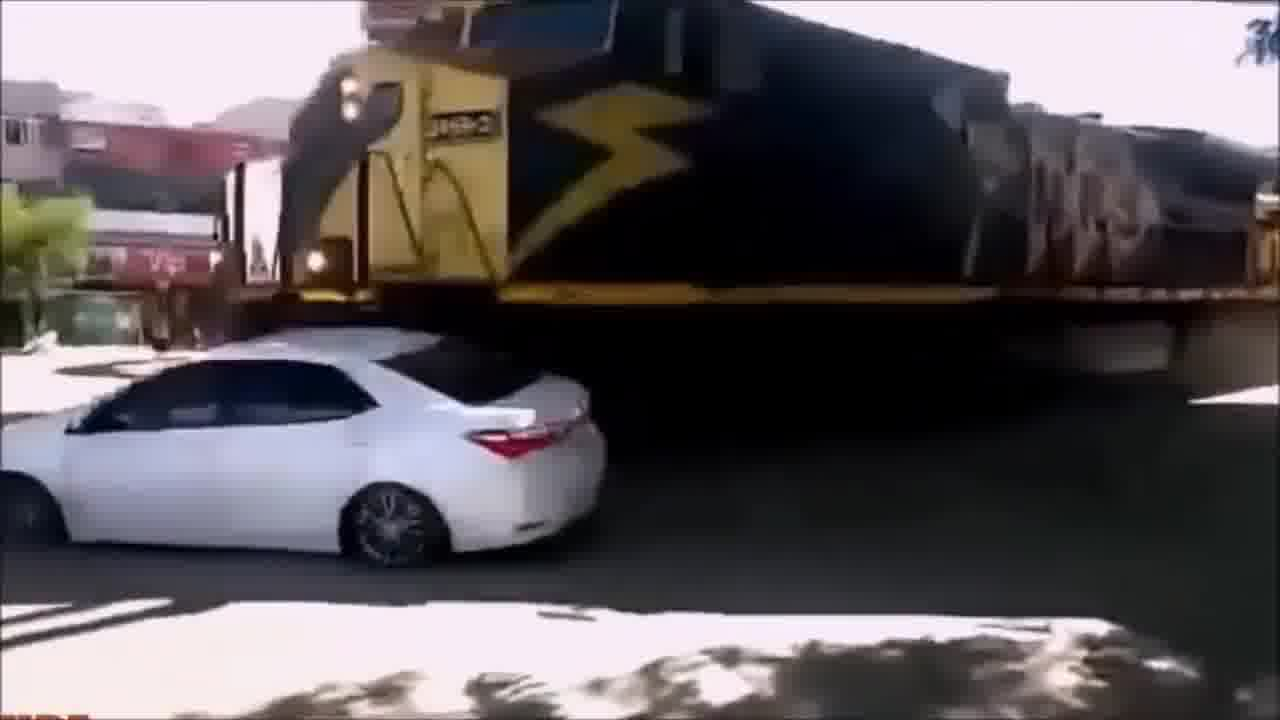crossing railway track: (7, 254, 703, 619)
